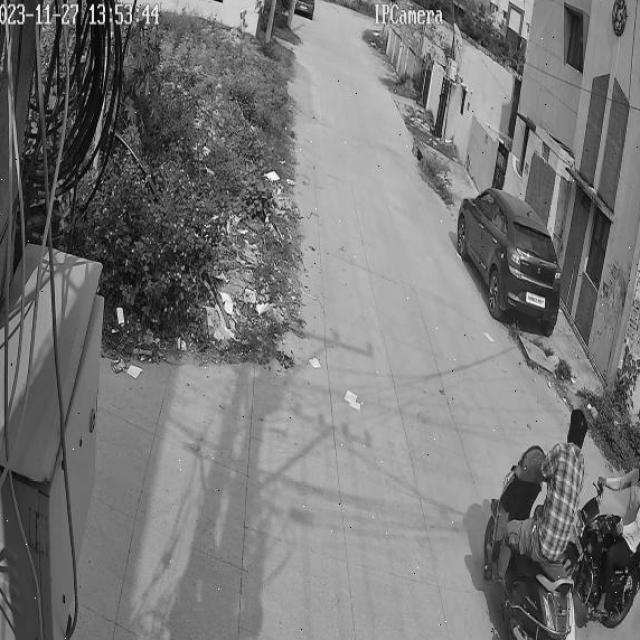accident: (473, 429, 639, 640)
